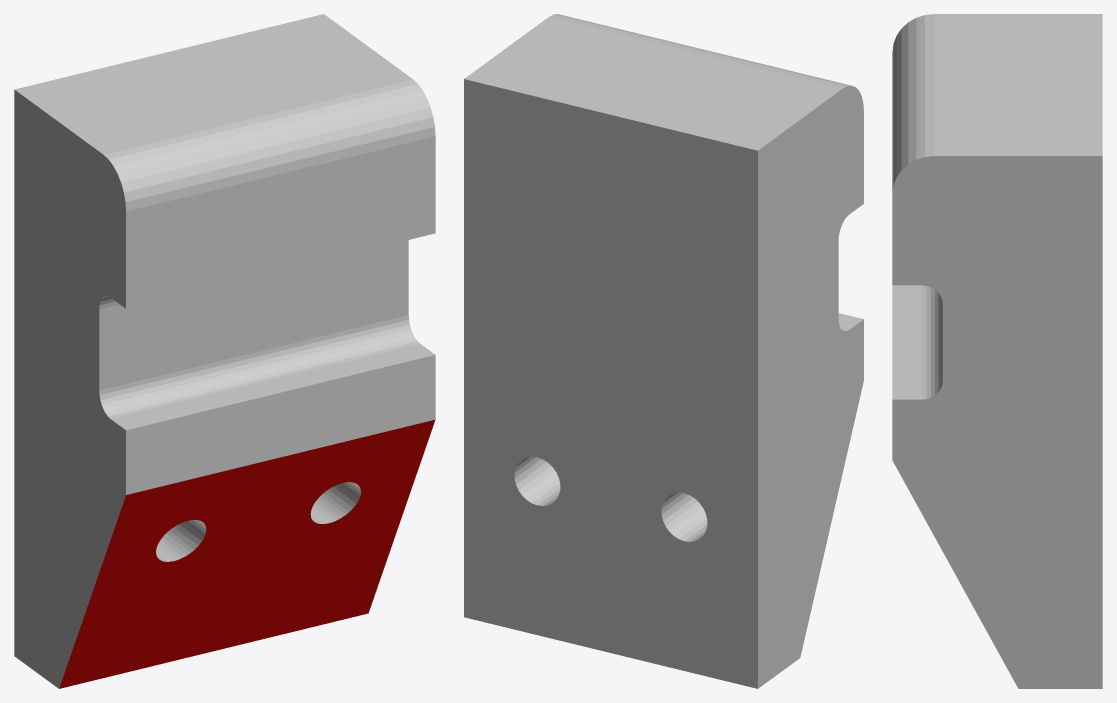
Rendered from TESTE_M5_stp_8.obj.
The picture shows the model from 3 angles, left to right: view 1: azimuth 30°, elevation 25°; view 2: azimuth 150°, elevation 25°; view 3: azimuth 270°, elevation 25°; orthographic projection. The views are drawn at different scales.
Visible parts, largest first — view 1: Object1; view 2: Object1; view 3: Object1.
Part boxes in pixels (bbox=[...]): Object1: bbox=[14, 14, 435, 688]; Object1: bbox=[464, 14, 863, 688]; Object1: bbox=[892, 14, 1102, 688].
Size of the model in its own units: 50.8 by 88.9 by 31.75.
